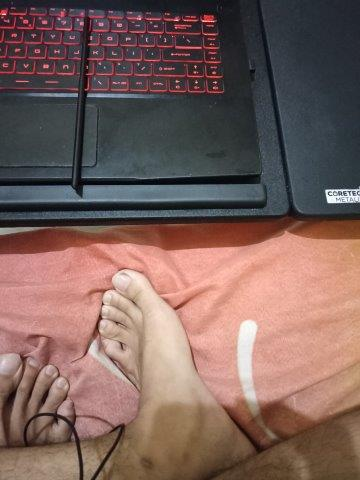sedotan: (73, 18, 89, 189)
